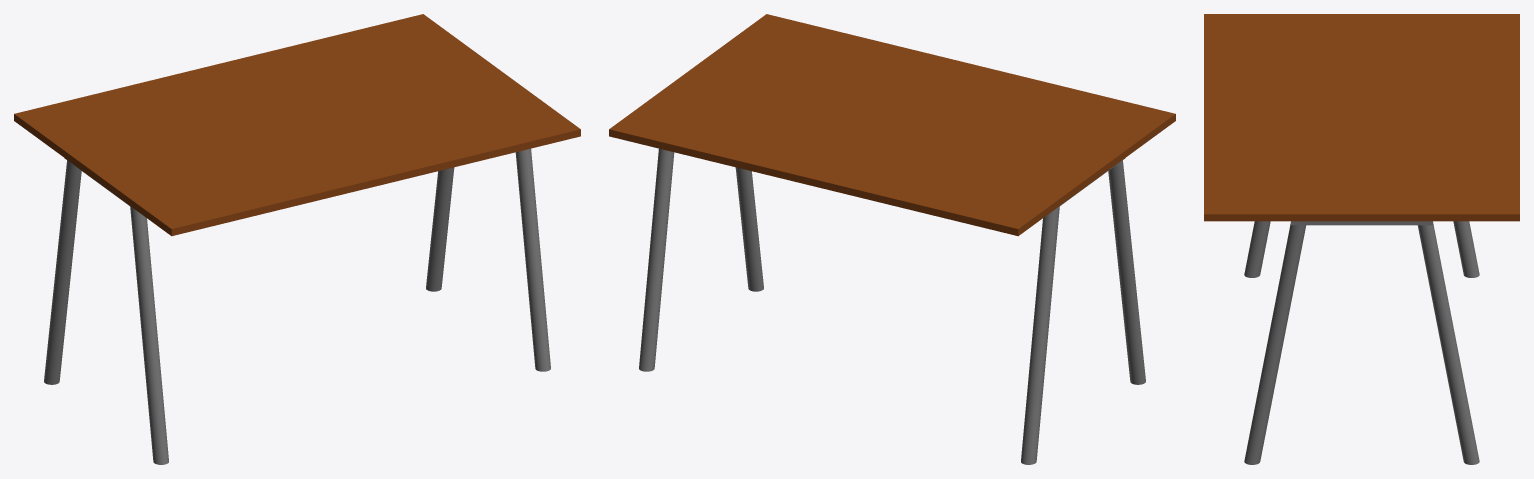
The model's file is galant_desk_2_obj0_object.obj.
The picture shows the model from 3 angles, left to right: view 1: azimuth 30°, elevation 25°; view 2: azimuth 150°, elevation 25°; view 3: azimuth 270°, elevation 25°; orthographic projection.
Parts seen in each view (by area): view 1: Mesh1 Galant_120_x_80_1 Model; view 2: Mesh1 Galant_120_x_80_1 Model; view 3: Mesh1 Galant_120_x_80_1 Model.
Part boxes in pixels (box(x1,y1,x2,y2)): Mesh1 Galant_120_x_80_1 Model: box(14, 14, 580, 464); Mesh1 Galant_120_x_80_1 Model: box(609, 14, 1175, 464); Mesh1 Galant_120_x_80_1 Model: box(1204, 14, 1519, 464).
Size of the model in its own units: 47.24 by 27.95 by 31.5.
